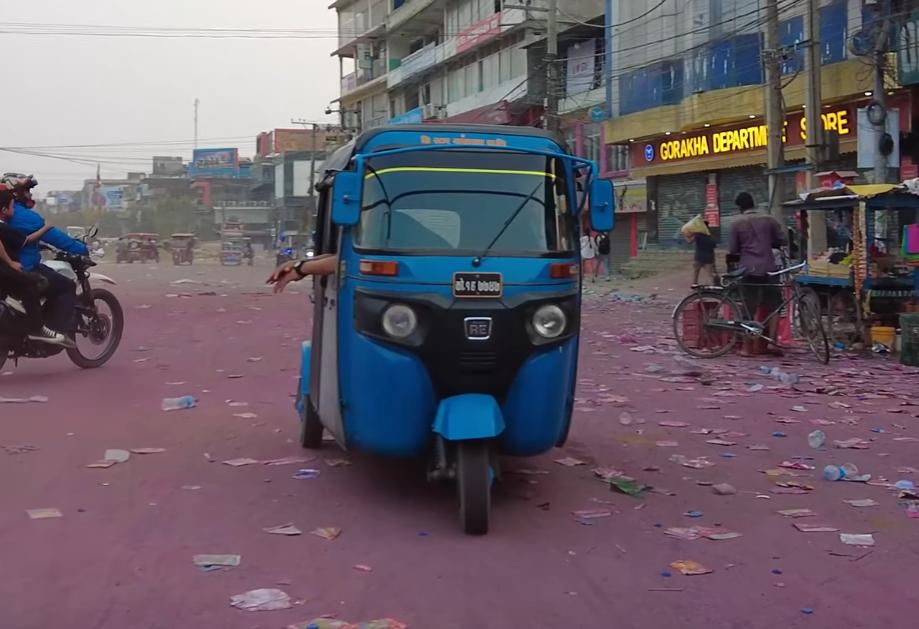auto_rickshaw: (297, 120, 617, 539)
bike: (0, 225, 128, 380)
e-rickshaw: (167, 227, 195, 269)
